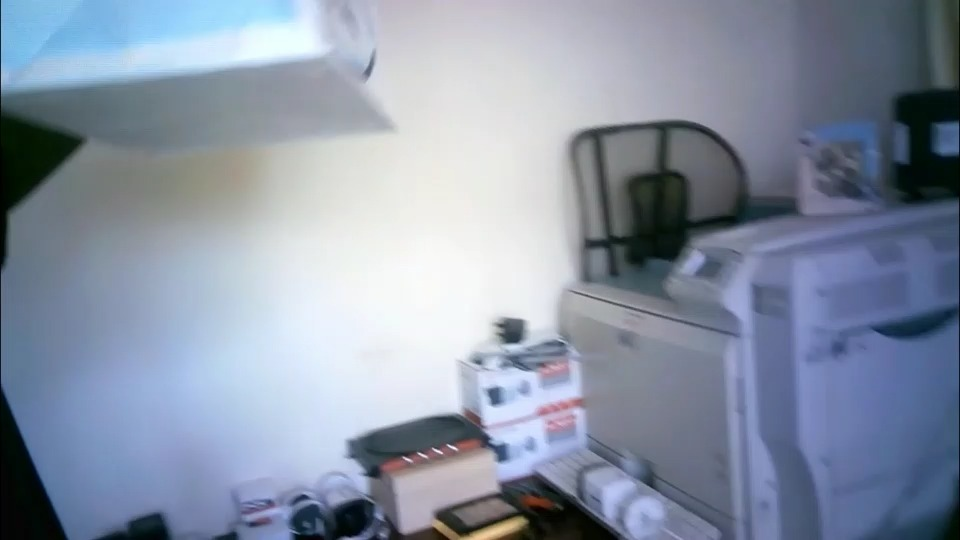wheat_flour_blue_label: (5, 6, 396, 145)
